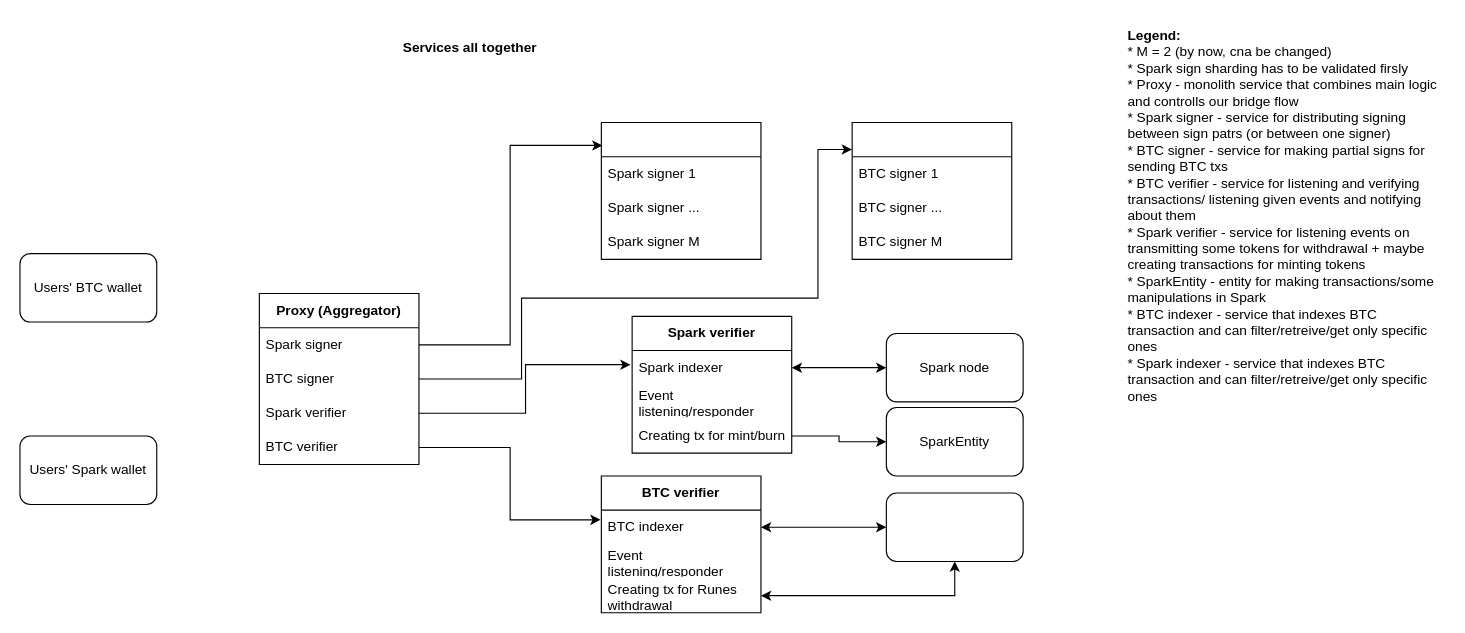
The diagram is 1465 pixels wide and 633 high, and some of its shapes have lost their labels. The shapes that lost their labels are listed below. From the top down, each one's box as (x1, y1, x2, y2) in pixels, then its label:
(600, 121, 761, 259): Spark signer (FROST/ROAST)
(851, 121, 1012, 259): BTC signer (FROST/ROAST)
(885, 492, 1023, 561): BTC node
